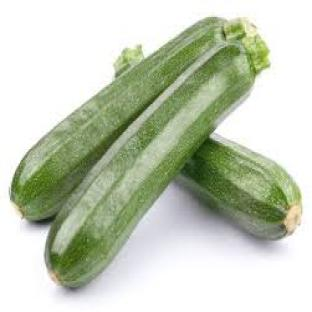Zucchini: (45, 36, 268, 287), (10, 18, 224, 220), (181, 136, 302, 239)
